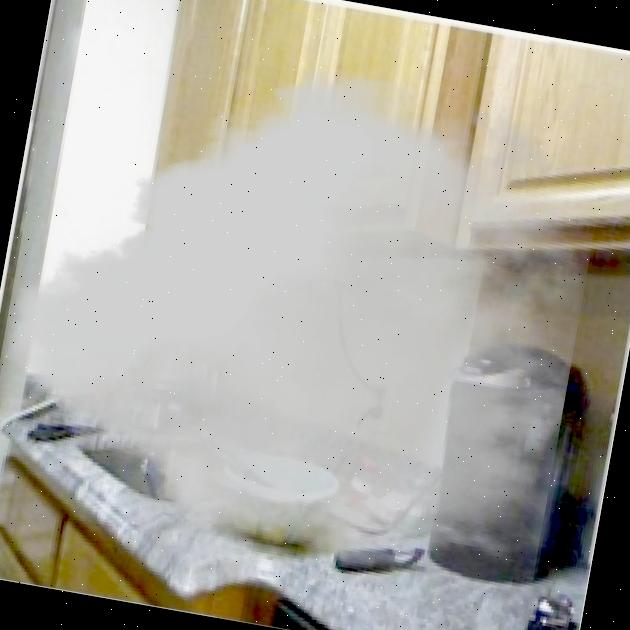smoke: (0, 16, 615, 630)
